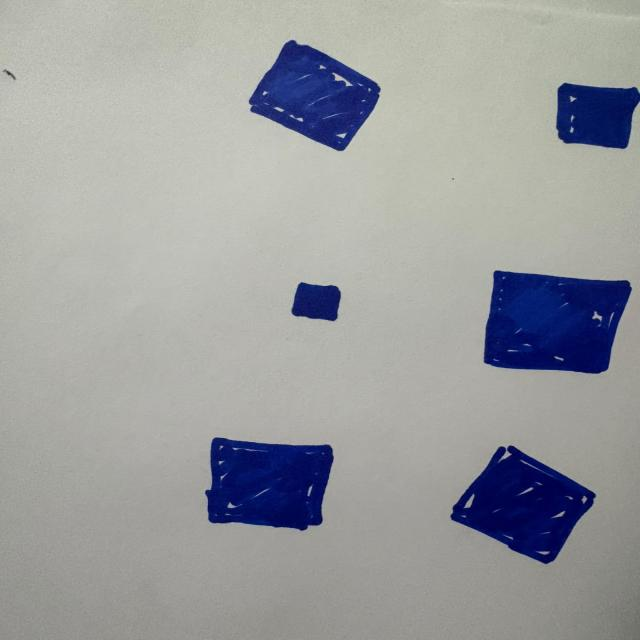Square: (451, 446, 595, 563), (484, 271, 631, 374), (250, 40, 380, 150), (205, 438, 333, 530), (556, 83, 639, 148), (291, 282, 340, 321)
